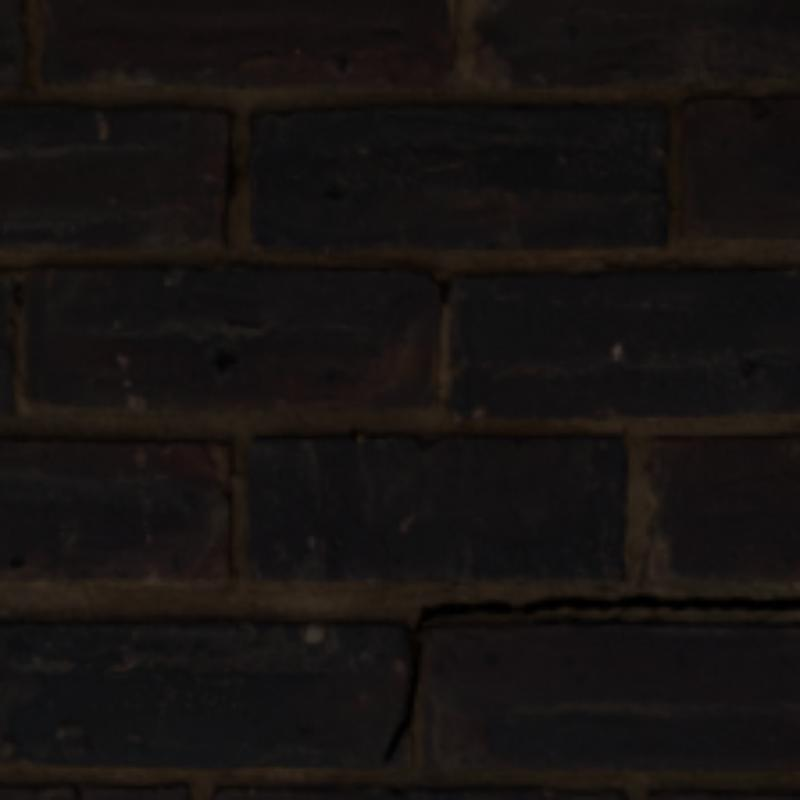pothole: (386, 593, 796, 761)
